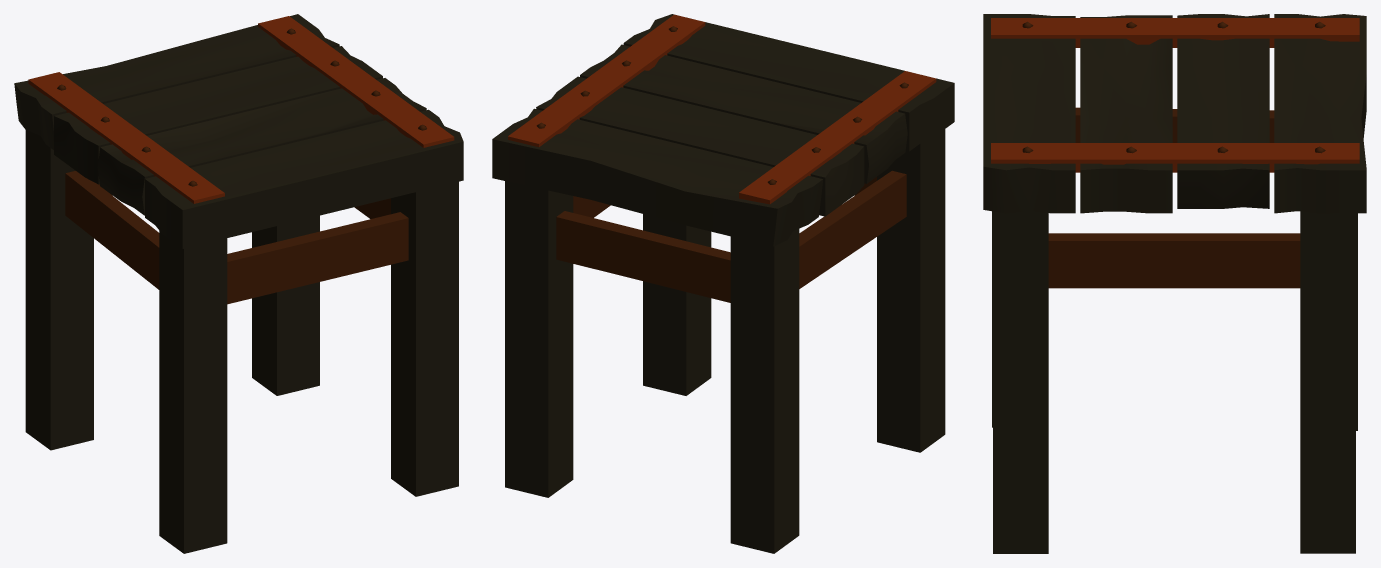
The model's file is Стул1.fbx.
The picture shows the model from 3 angles, left to right: view 1: azimuth 30°, elevation 25°; view 2: azimuth 150°, elevation 25°; view 3: azimuth 270°, elevation 25°; orthographic projection. The views are drawn at different scales.
Visible parts, largest first — view 1: Box001; view 2: Box001; view 3: Box001.
Part boxes in pixels (<box>): Box001: <box>14,14,463,553</box>; Box001: <box>492,14,954,553</box>; Box001: <box>983,14,1366,553</box>.
Size of the model in its own units: 400 by 473 by 415.
